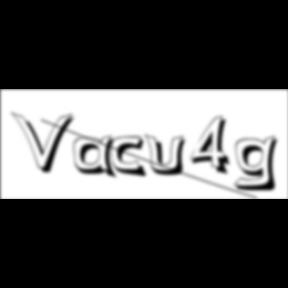4: (190, 115, 236, 179)
V: (12, 110, 78, 176)
a: (74, 135, 122, 182)
c: (111, 136, 151, 180)
g: (234, 134, 286, 194)
u: (144, 132, 192, 178)
